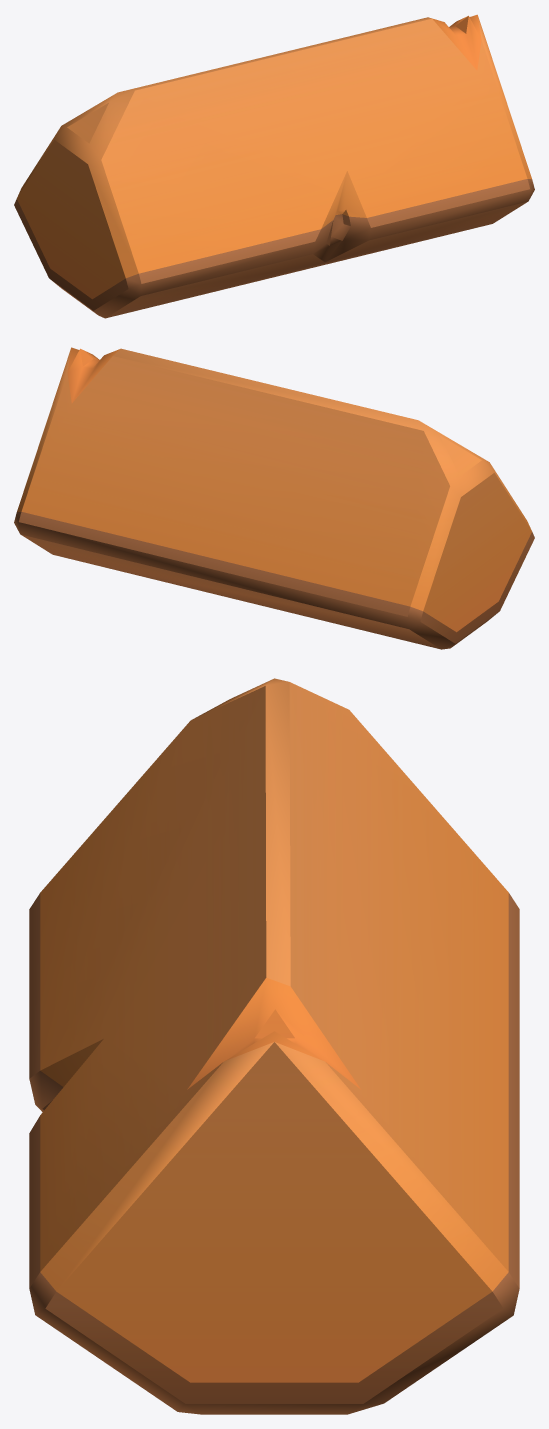
Rendered from Firewood_01.fbx.
3 views of the same model, one above another, from view 1: azimuth 30°, elevation 25°; view 2: azimuth 150°, elevation 25°; view 3: azimuth 270°, elevation 25° (orthographic). The views are drawn at different scales.
Parts seen in each view (by area): view 1: Firewood_01; view 2: Firewood_01; view 3: Firewood_01.
Boxes of the visible parts, <box> form: Firewood_01: <box>14,14,534,318</box>; Firewood_01: <box>14,347,534,649</box>; Firewood_01: <box>29,678,519,1414</box>.
Size of the model in its own units: 84.5 by 39.79 by 44.14.
